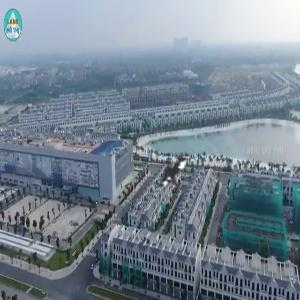drone: (102, 110, 239, 247)
